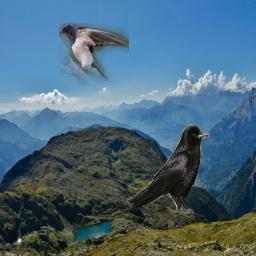Crow: (127, 124, 210, 214)
Swallow: (59, 23, 129, 86)
